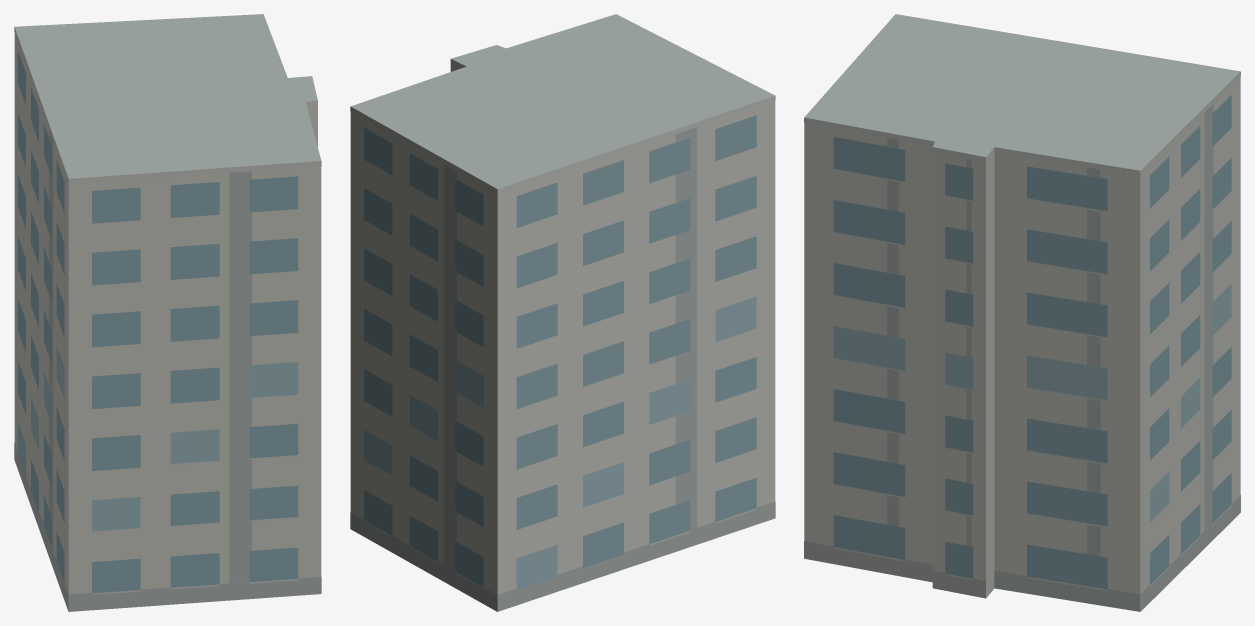
Rendered from survey-upis-32953484.glb.
3 renders of one model, left to right at view 1: azimuth 30°, elevation 25°; view 2: azimuth 150°, elevation 25°; view 3: azimuth 270°, elevation 25°, orthographic. The views are drawn at different scales.
Visible parts, largest first — view 1: survey-upis-32953484.tmp; view 2: survey-upis-32953484.tmp; view 3: survey-upis-32953484.tmp.
Part boxes in pixels (x1,y1,x2,y2): survey-upis-32953484.tmp: (14,14,321,611); survey-upis-32953484.tmp: (350,14,775,611); survey-upis-32953484.tmp: (804,14,1240,611).
Size of the model in its own units: 15.32 by 20.1 by 18.04.
